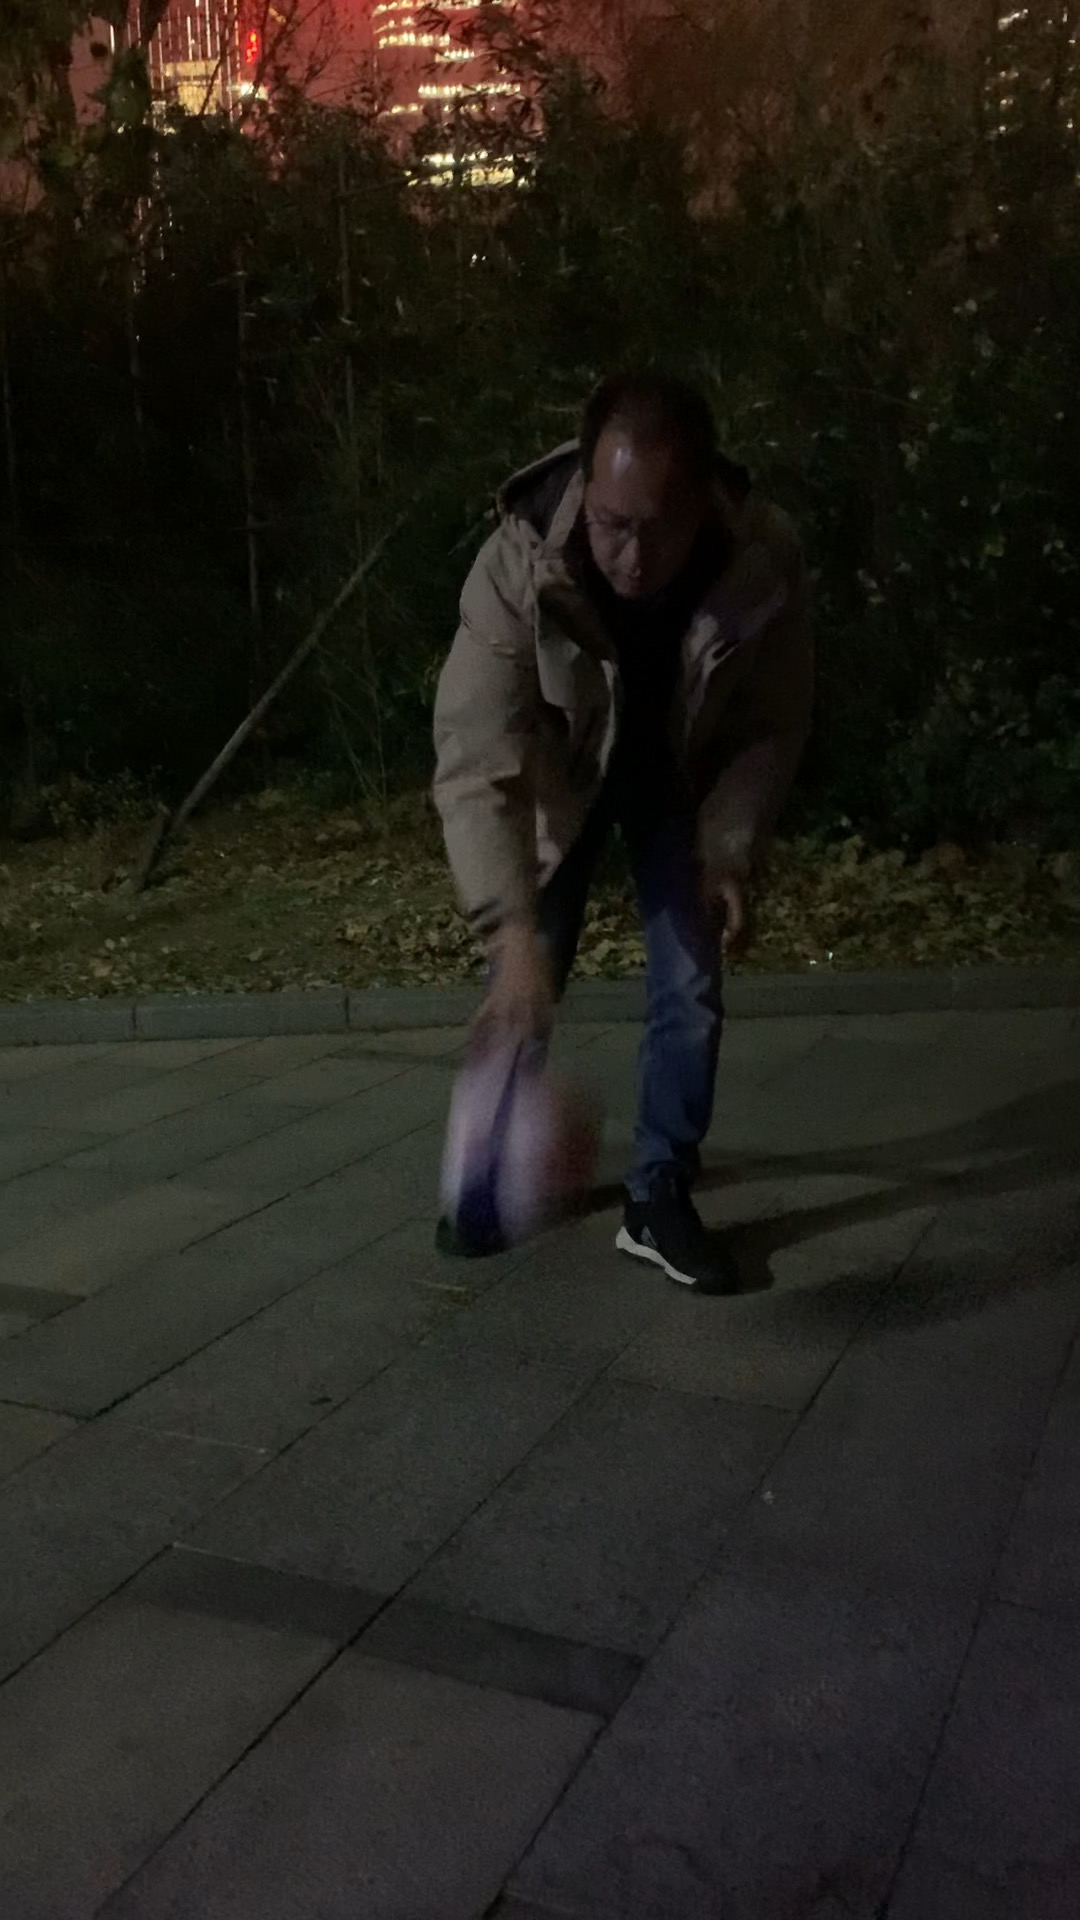ball: (446, 1065, 605, 1240)
